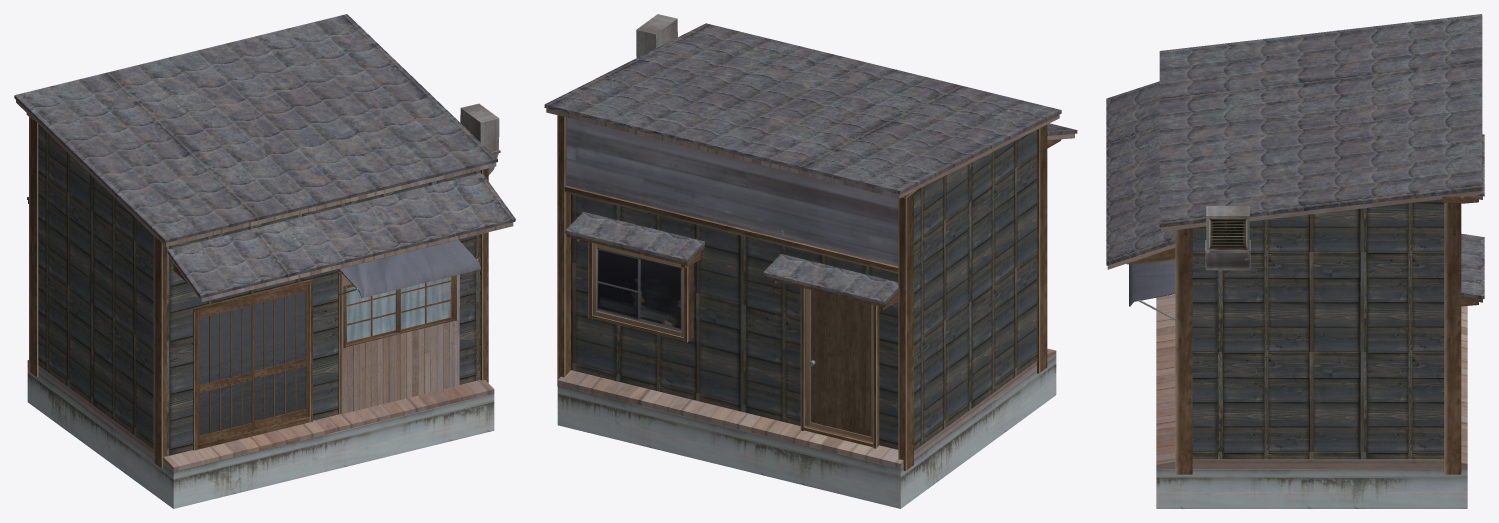
Rendered from ms_small_3k.fbx.
The picture shows the model from 3 angles, left to right: view 1: azimuth 30°, elevation 25°; view 2: azimuth 150°, elevation 25°; view 3: azimuth 270°, elevation 25°; orthographic projection. The views are drawn at different scales.
Parts seen in each view (by area): view 1: ms_small_3k; view 2: ms_small_3k; view 3: ms_small_3k.
Boxes of the visible parts, x1,y1,x2,y2 form: ms_small_3k: (14, 14, 515, 508); ms_small_3k: (544, 14, 1077, 508); ms_small_3k: (1106, 14, 1484, 508).
Size of the model in its own units: 650 by 560 by 529.
5 materials, 5 textured.
